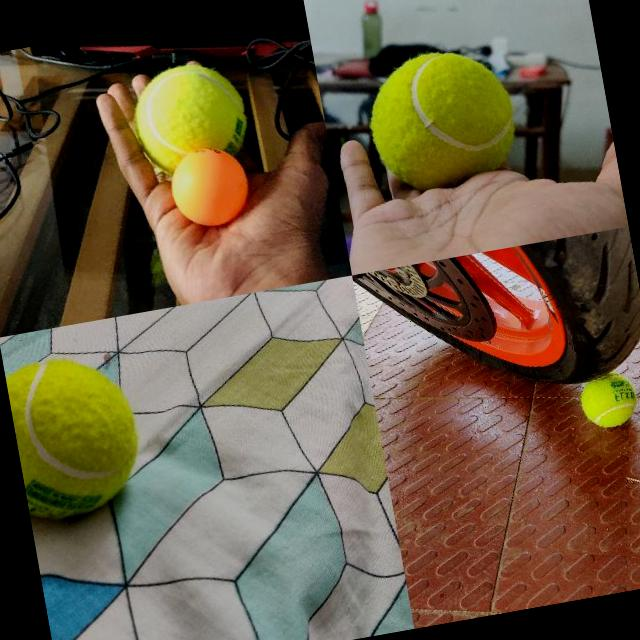Tennis Ball: (4, 346, 150, 523), (359, 39, 523, 188), (126, 56, 250, 159), (578, 374, 640, 431)
